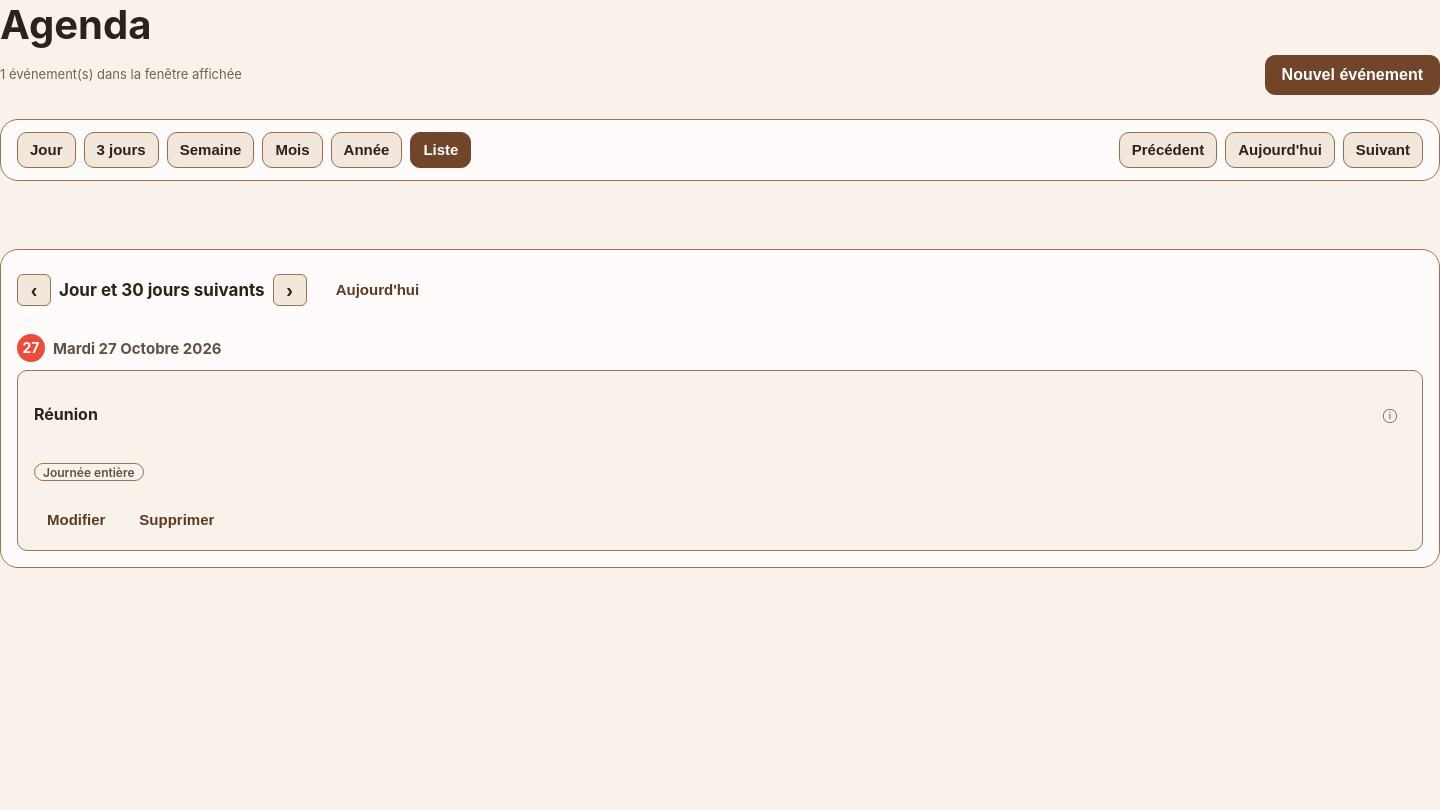
CalendarScreen — édition et suppression › affiche un conflit de hash et ne prétend pas avoir enregistré
The width and height of the screenshot is (1440, 810).
Check: the heading "Réunion" is shown, box [34, 404, 98, 424]
Click the button with aria-label "Modifier « Réunion »": {"x": 76, "y": 520} [34, 502, 118, 538]
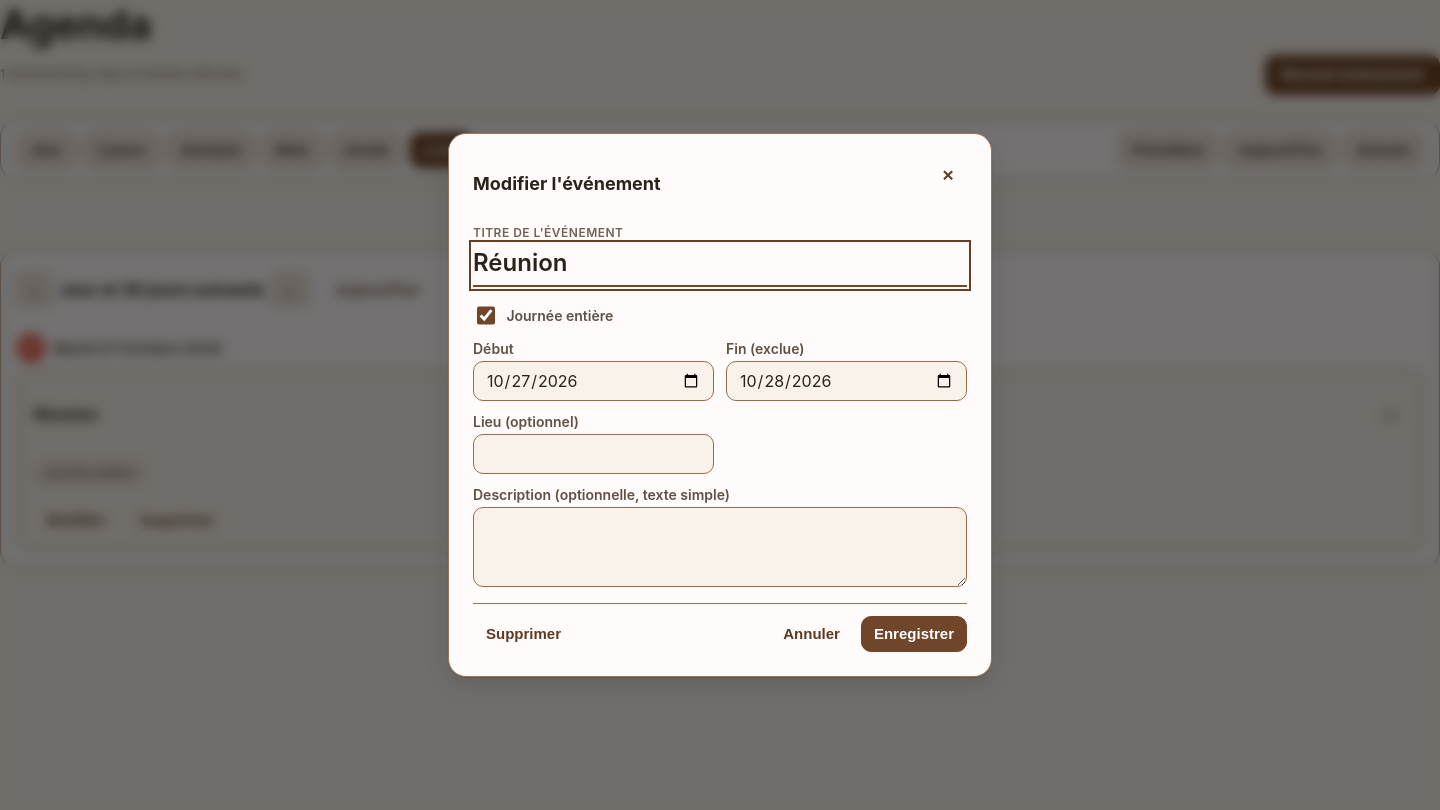
Replace the text in the field labelled "Titre de l'événement" with "Version utilisateur": {"x": 720, "y": 266} [473, 244, 967, 287]
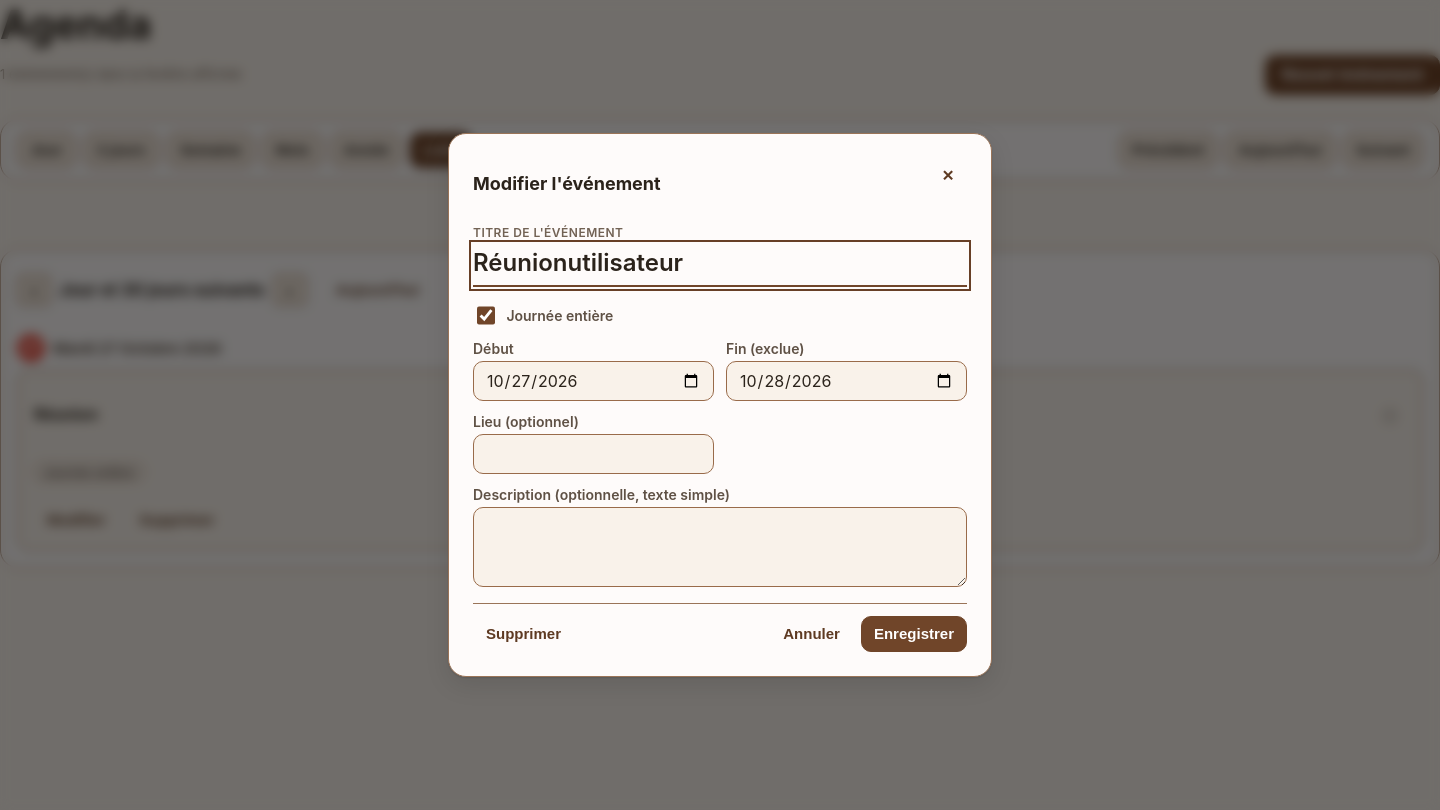
Click the button "Enregistrer": {"x": 914, "y": 634} [861, 616, 967, 652]
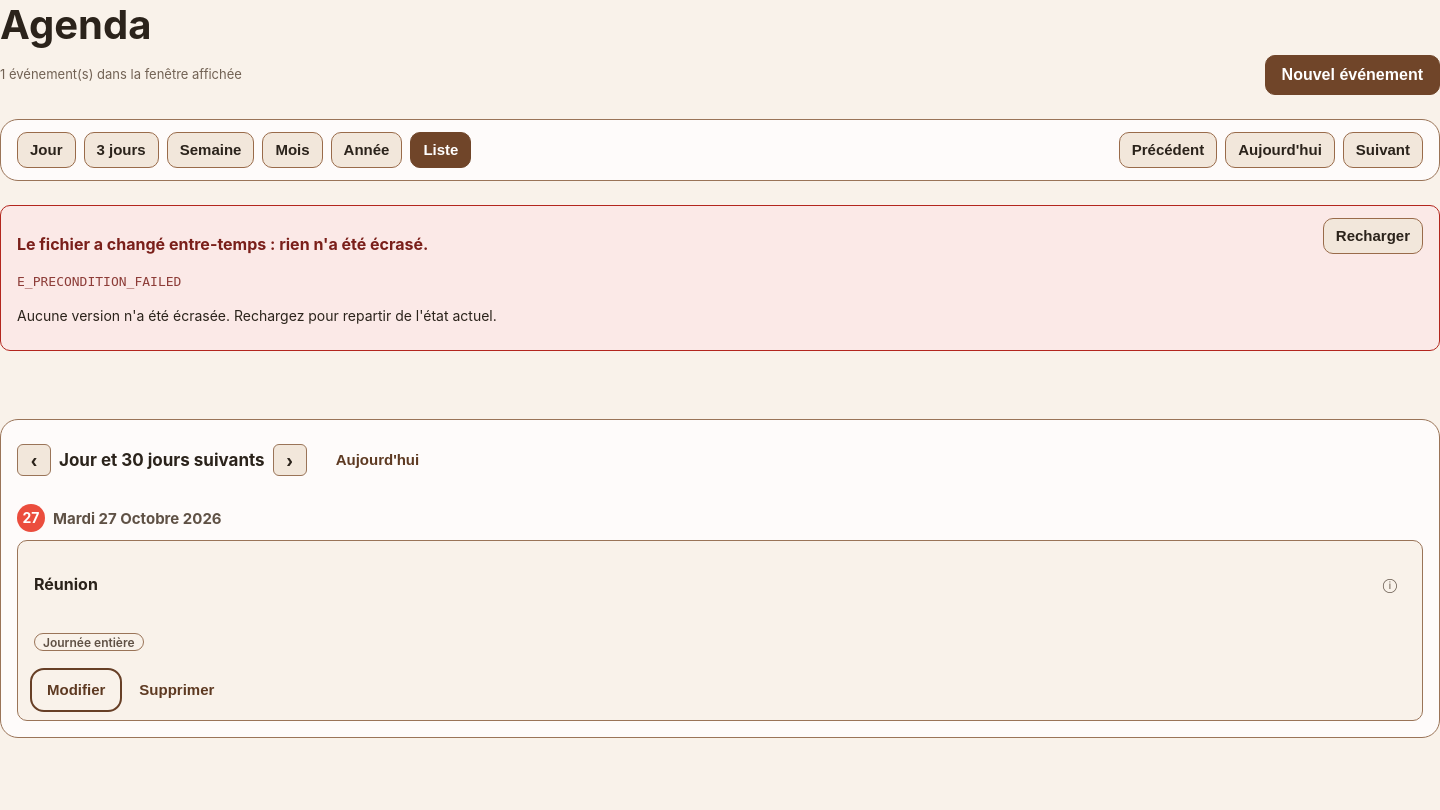
Check: the 1st message shows "E_PRECONDITION_FAILED", box [17, 274, 181, 289]
Check: the 1st message shows "changé entre-temps", box [17, 234, 428, 254]
Check: the button "Recharger" is shown, box [1323, 218, 1423, 254]
